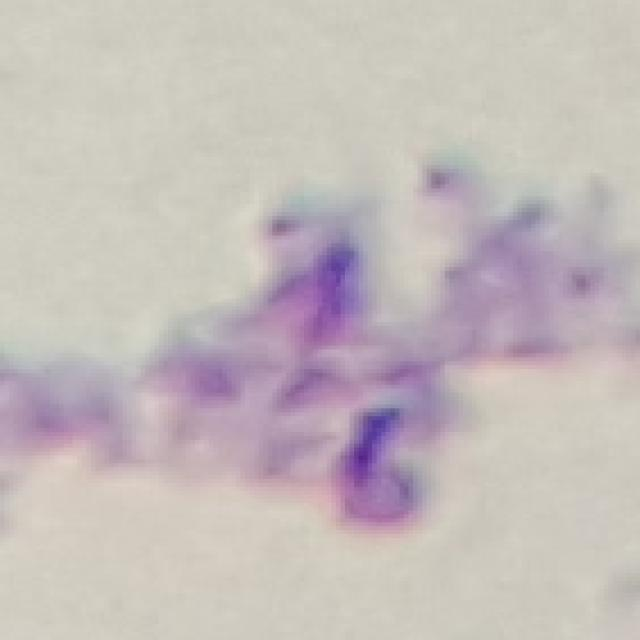non-sperm: (158, 218, 431, 525)
